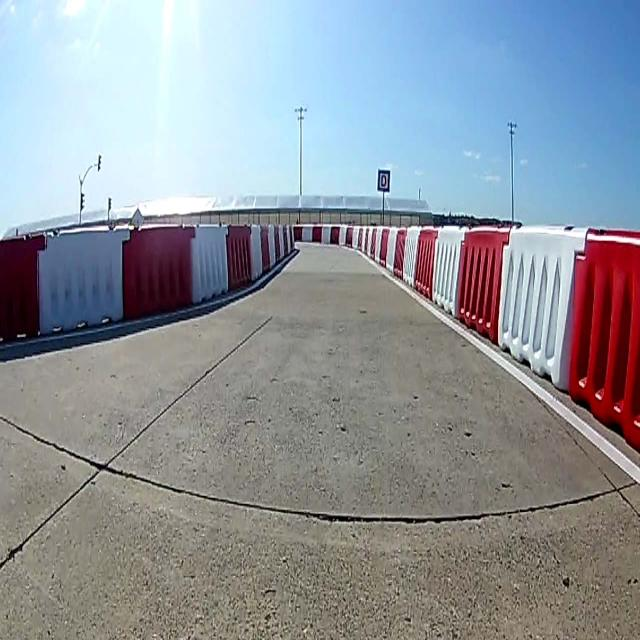durak: (377, 168, 391, 192)
